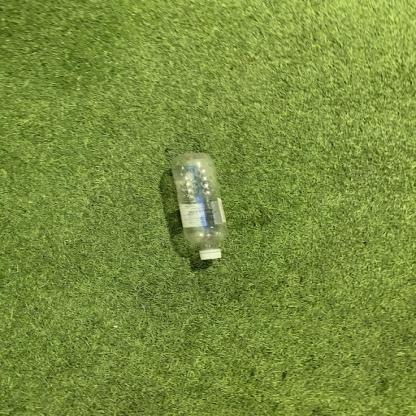trash: (171, 150, 230, 263)
